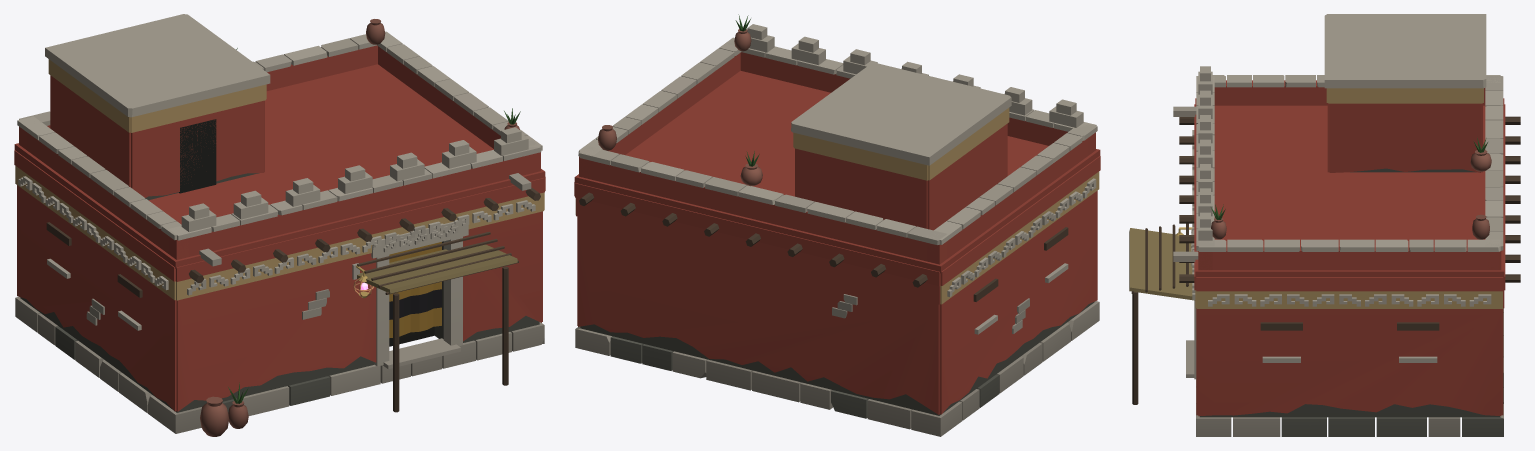
File: zr_house_b.glb
The picture shows the model from 3 angles, left to right: view 1: azimuth 30°, elevation 25°; view 2: azimuth 150°, elevation 25°; view 3: azimuth 270°, elevation 25°; orthographic projection. The views are drawn at different scales.
Visible parts, largest first — view 1: zr_house_b; view 2: zr_house_b; view 3: zr_house_b.
Boxes of the visible parts, bbox=[...] form: zr_house_b: bbox=[14, 14, 545, 436]; zr_house_b: bbox=[574, 14, 1100, 436]; zr_house_b: bbox=[1129, 14, 1520, 436].
Size of what is drawn, in the model's own units: 8.24 by 5.68 by 7.75.
